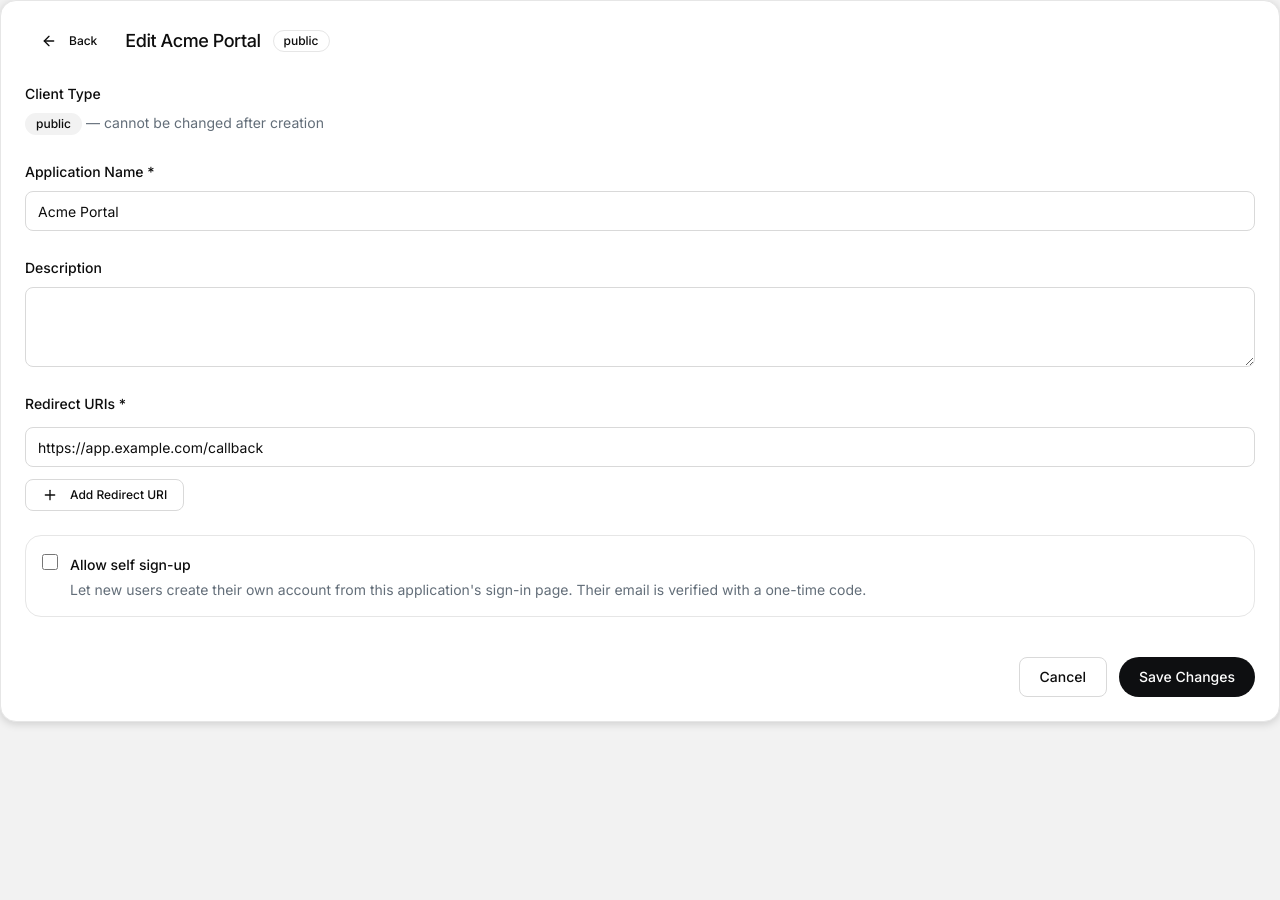
Test: EditClientForm self sign-up settings › requires a default role when enabling self sign-up
Click the checkbox labelled "Allow self sign-up" at (50, 562), box [42,554,58,570]
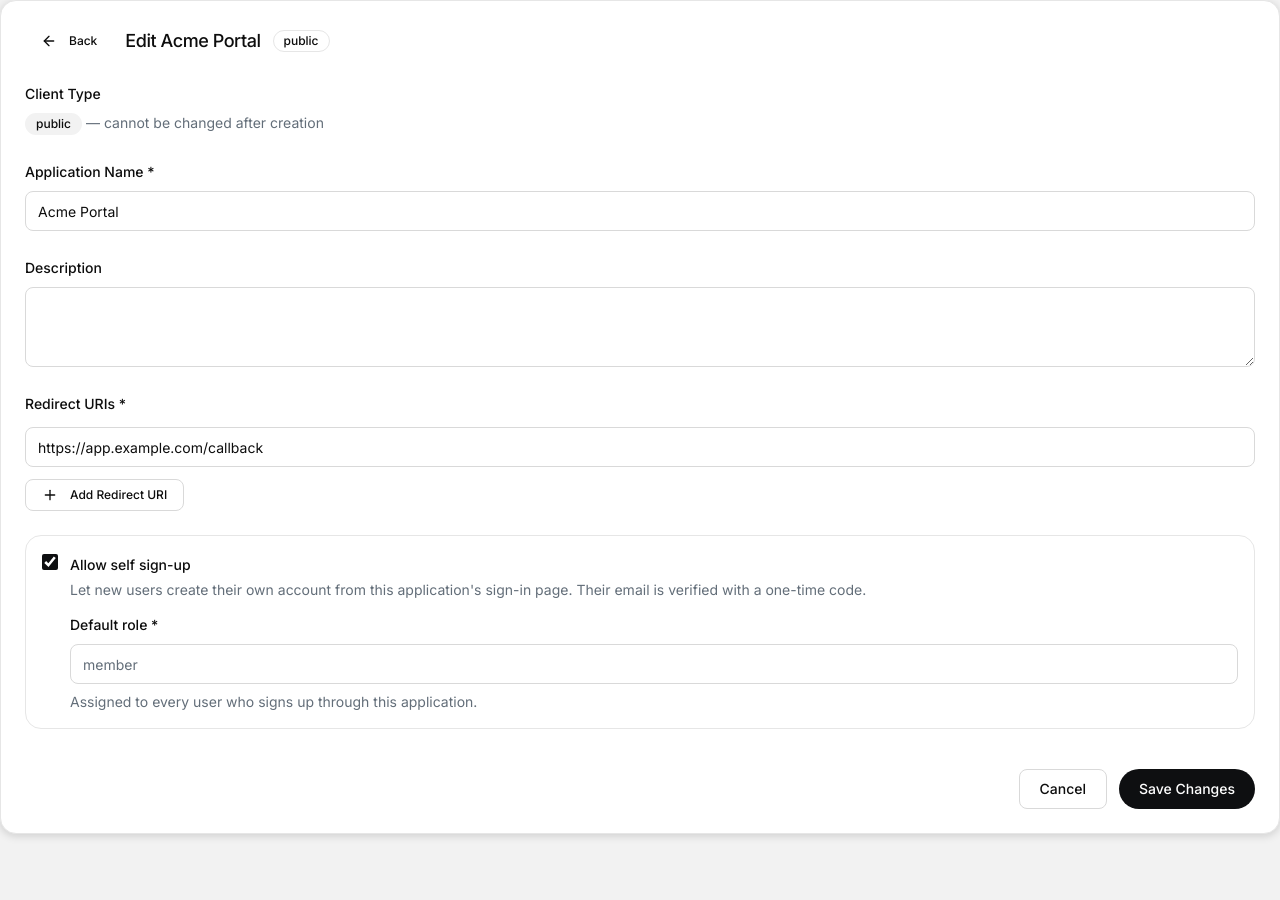
Click the button "Save Changes" at (1187, 789), box [1119,769,1255,809]
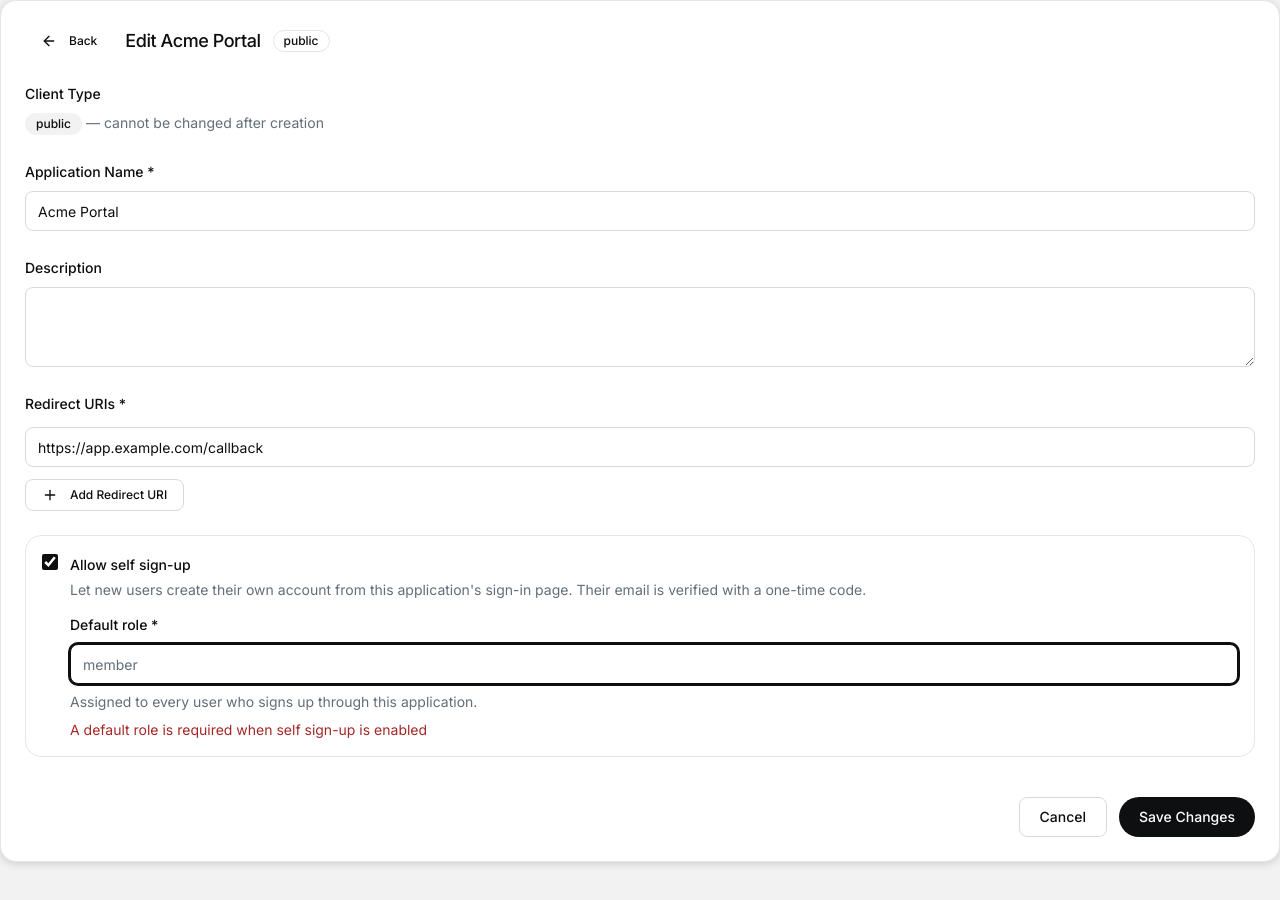
Expected: the text "A default role is required when self sign-up is enabled" is shown, [70,721,427,738]
